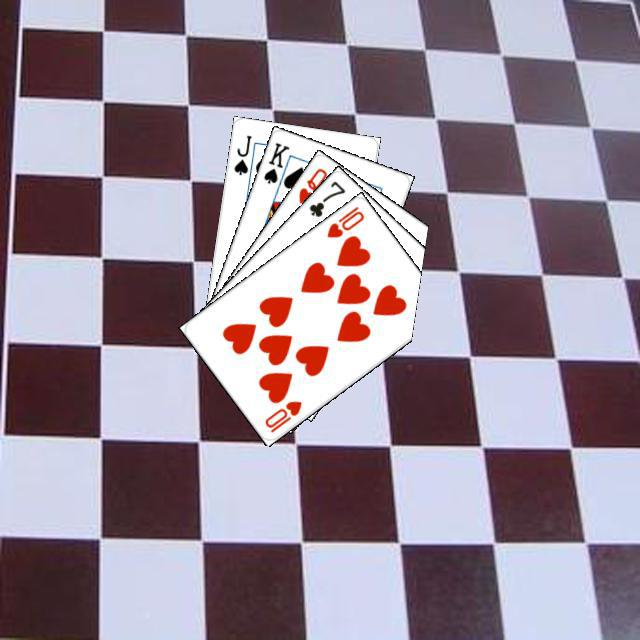10h: (322, 201, 366, 240), (260, 396, 303, 434)
7c: (304, 176, 347, 219)
Js: (229, 130, 253, 177)
Ks: (259, 137, 291, 185)
Qh: (293, 163, 329, 206)
